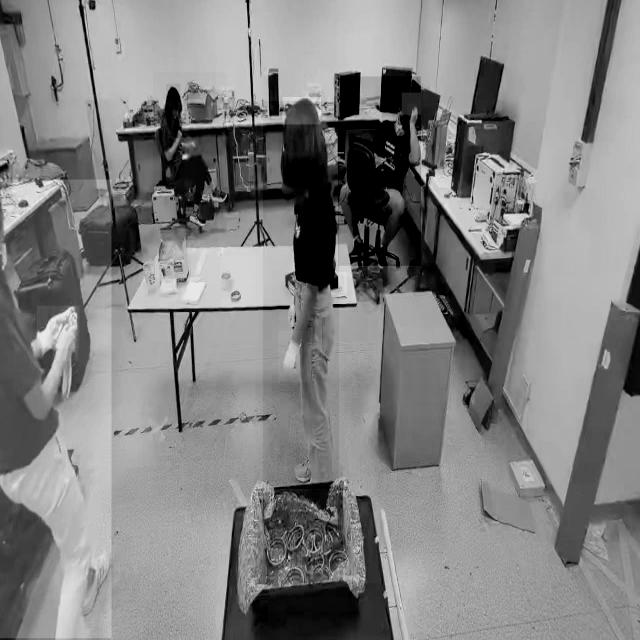face_mask: (393, 110, 409, 145)
hand_glove: (37, 306, 79, 348), (278, 331, 310, 383)
hand_noglove: (56, 324, 78, 362), (408, 104, 418, 125), (184, 140, 196, 148), (176, 127, 182, 139)
head_nohelmet: (282, 97, 322, 125), (402, 92, 422, 116), (166, 84, 181, 102)
person: (0, 180, 112, 639), (263, 101, 339, 490), (338, 76, 422, 266), (153, 72, 227, 234)
shoes: (74, 547, 114, 611), (295, 447, 334, 483), (210, 179, 229, 207), (187, 206, 208, 230)
